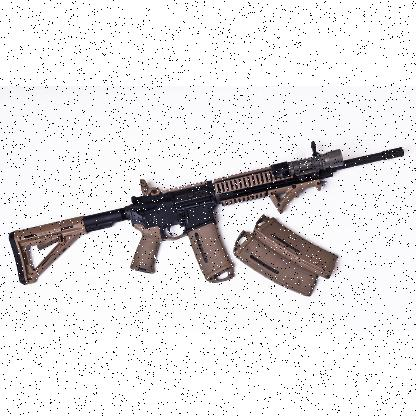gun: (9, 140, 403, 282)
